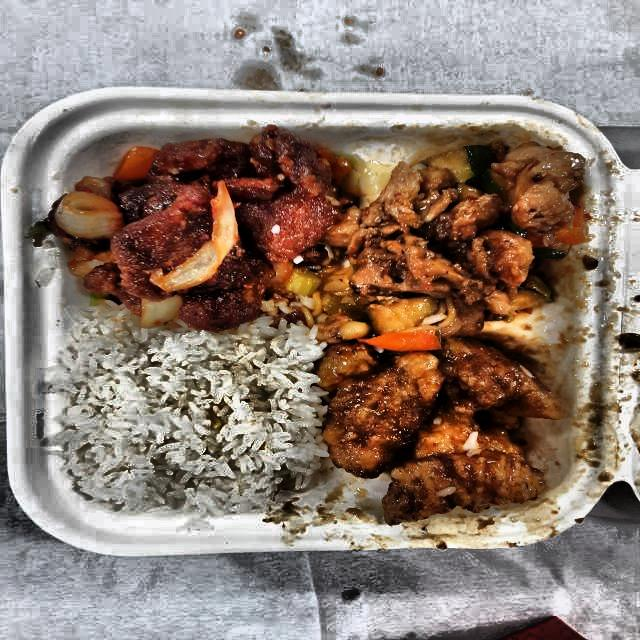Food: (43, 118, 354, 320), (331, 125, 595, 333), (52, 321, 322, 516), (326, 340, 567, 520)
